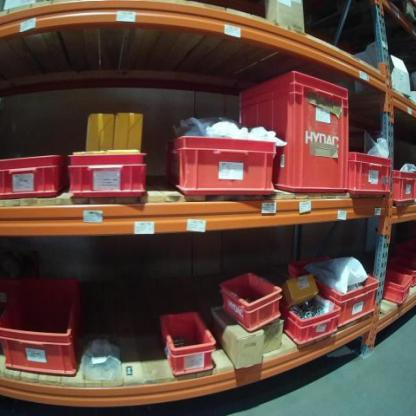small_load_carrier: (237, 66, 350, 197), (2, 270, 88, 377), (285, 247, 384, 330), (161, 132, 280, 200), (219, 267, 286, 336), (158, 310, 218, 379), (64, 150, 146, 196), (284, 290, 346, 348), (1, 148, 68, 198), (350, 147, 392, 197), (365, 265, 414, 304), (391, 164, 415, 209), (387, 258, 415, 286)
